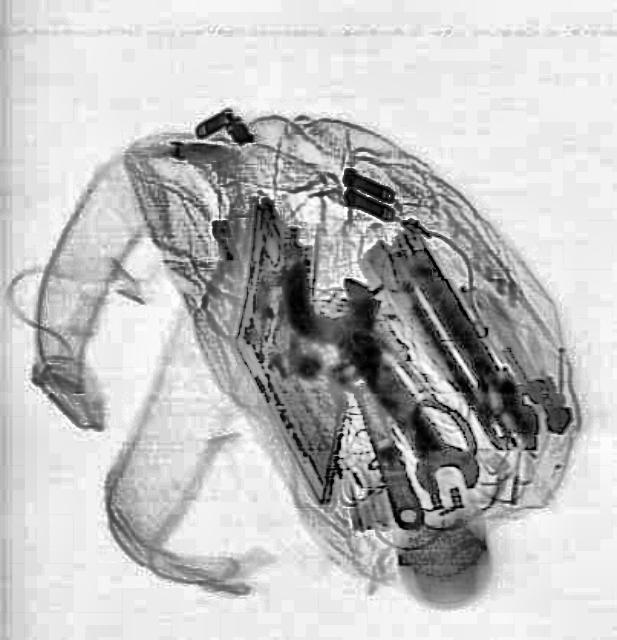Wrench: (297, 270, 489, 508)
